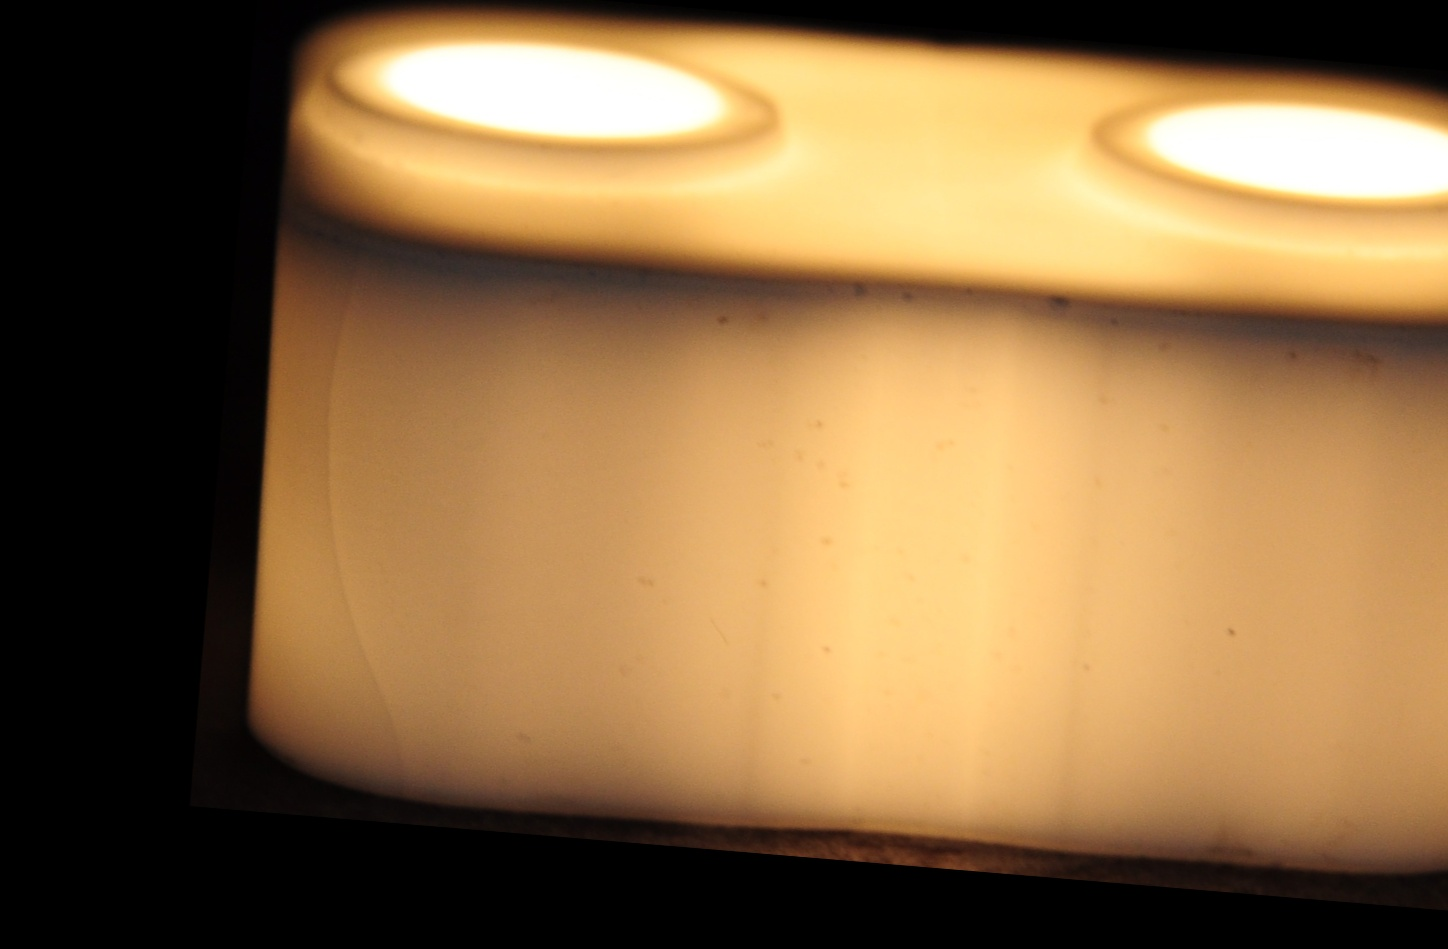flaw: (306, 241, 430, 796)
